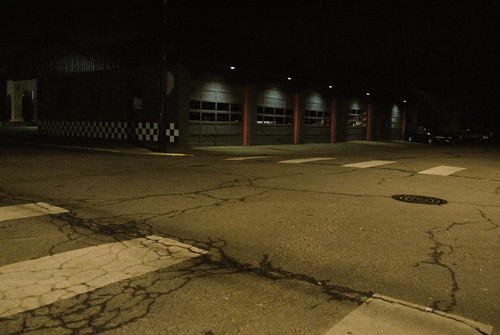building: (42, 19, 417, 139)
crosswalk: (1, 197, 500, 335), (217, 139, 498, 199)
manhole cover: (389, 188, 453, 216)
street: (18, 145, 500, 335)
